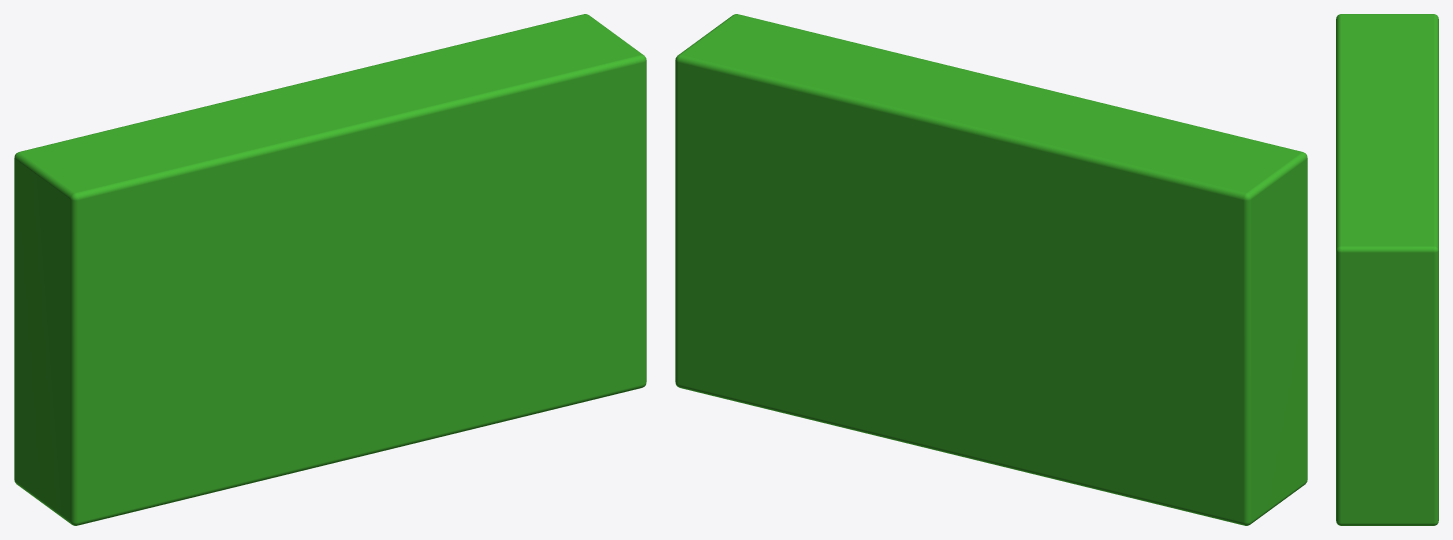
The model's file is Square Medium.fbx.
3 views of the same model, side by side, from view 1: azimuth 30°, elevation 25°; view 2: azimuth 150°, elevation 25°; view 3: azimuth 270°, elevation 25° (orthographic). The views are drawn at different scales.
Visible parts, largest first — view 1: SM_Square_Medium; view 2: SM_Square_Medium; view 3: SM_Square_Medium.
Part boxes in pixels (x1,y1,x2,y2): SM_Square_Medium: (14,14,646,525); SM_Square_Medium: (675,14,1307,525); SM_Square_Medium: (1336,14,1438,525).
Bounding box in the file's own units: 11.04 × 6.1 × 2.03.
